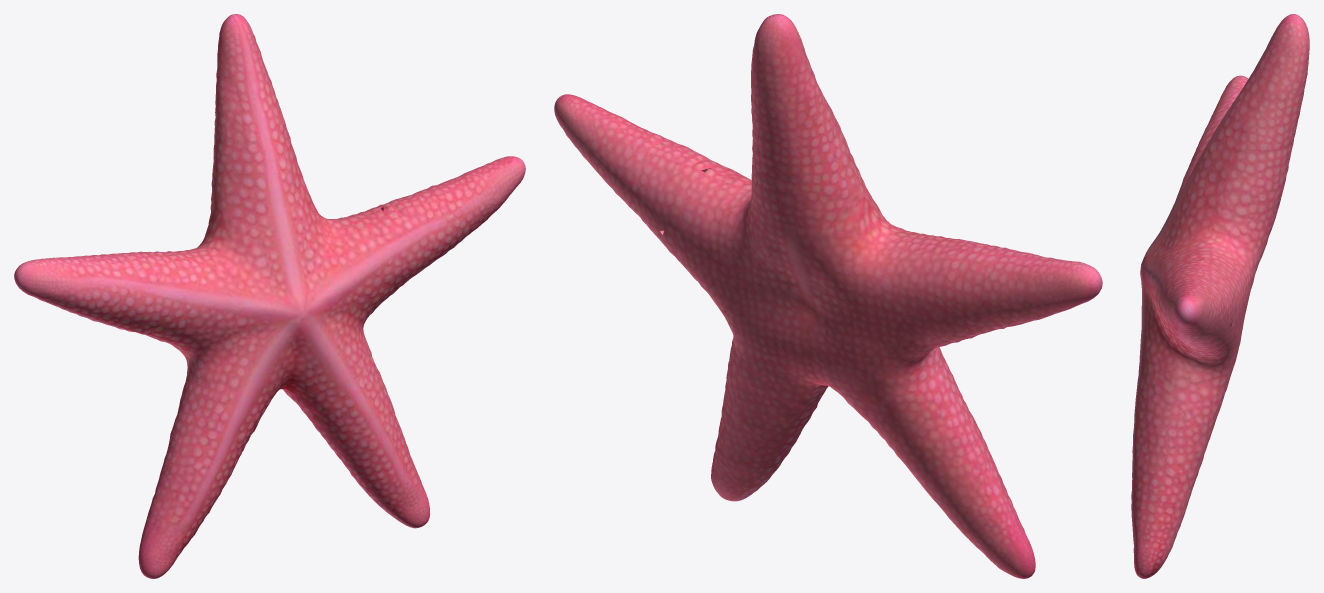
The picture shows the model from 3 angles, left to right: view 1: azimuth 30°, elevation 25°; view 2: azimuth 150°, elevation 25°; view 3: azimuth 270°, elevation 25°; orthographic projection. The views are drawn at different scales.
Bounding box in the file's own units: 2 × 1.93 × 0.6146.
1 material, 1 textured.
